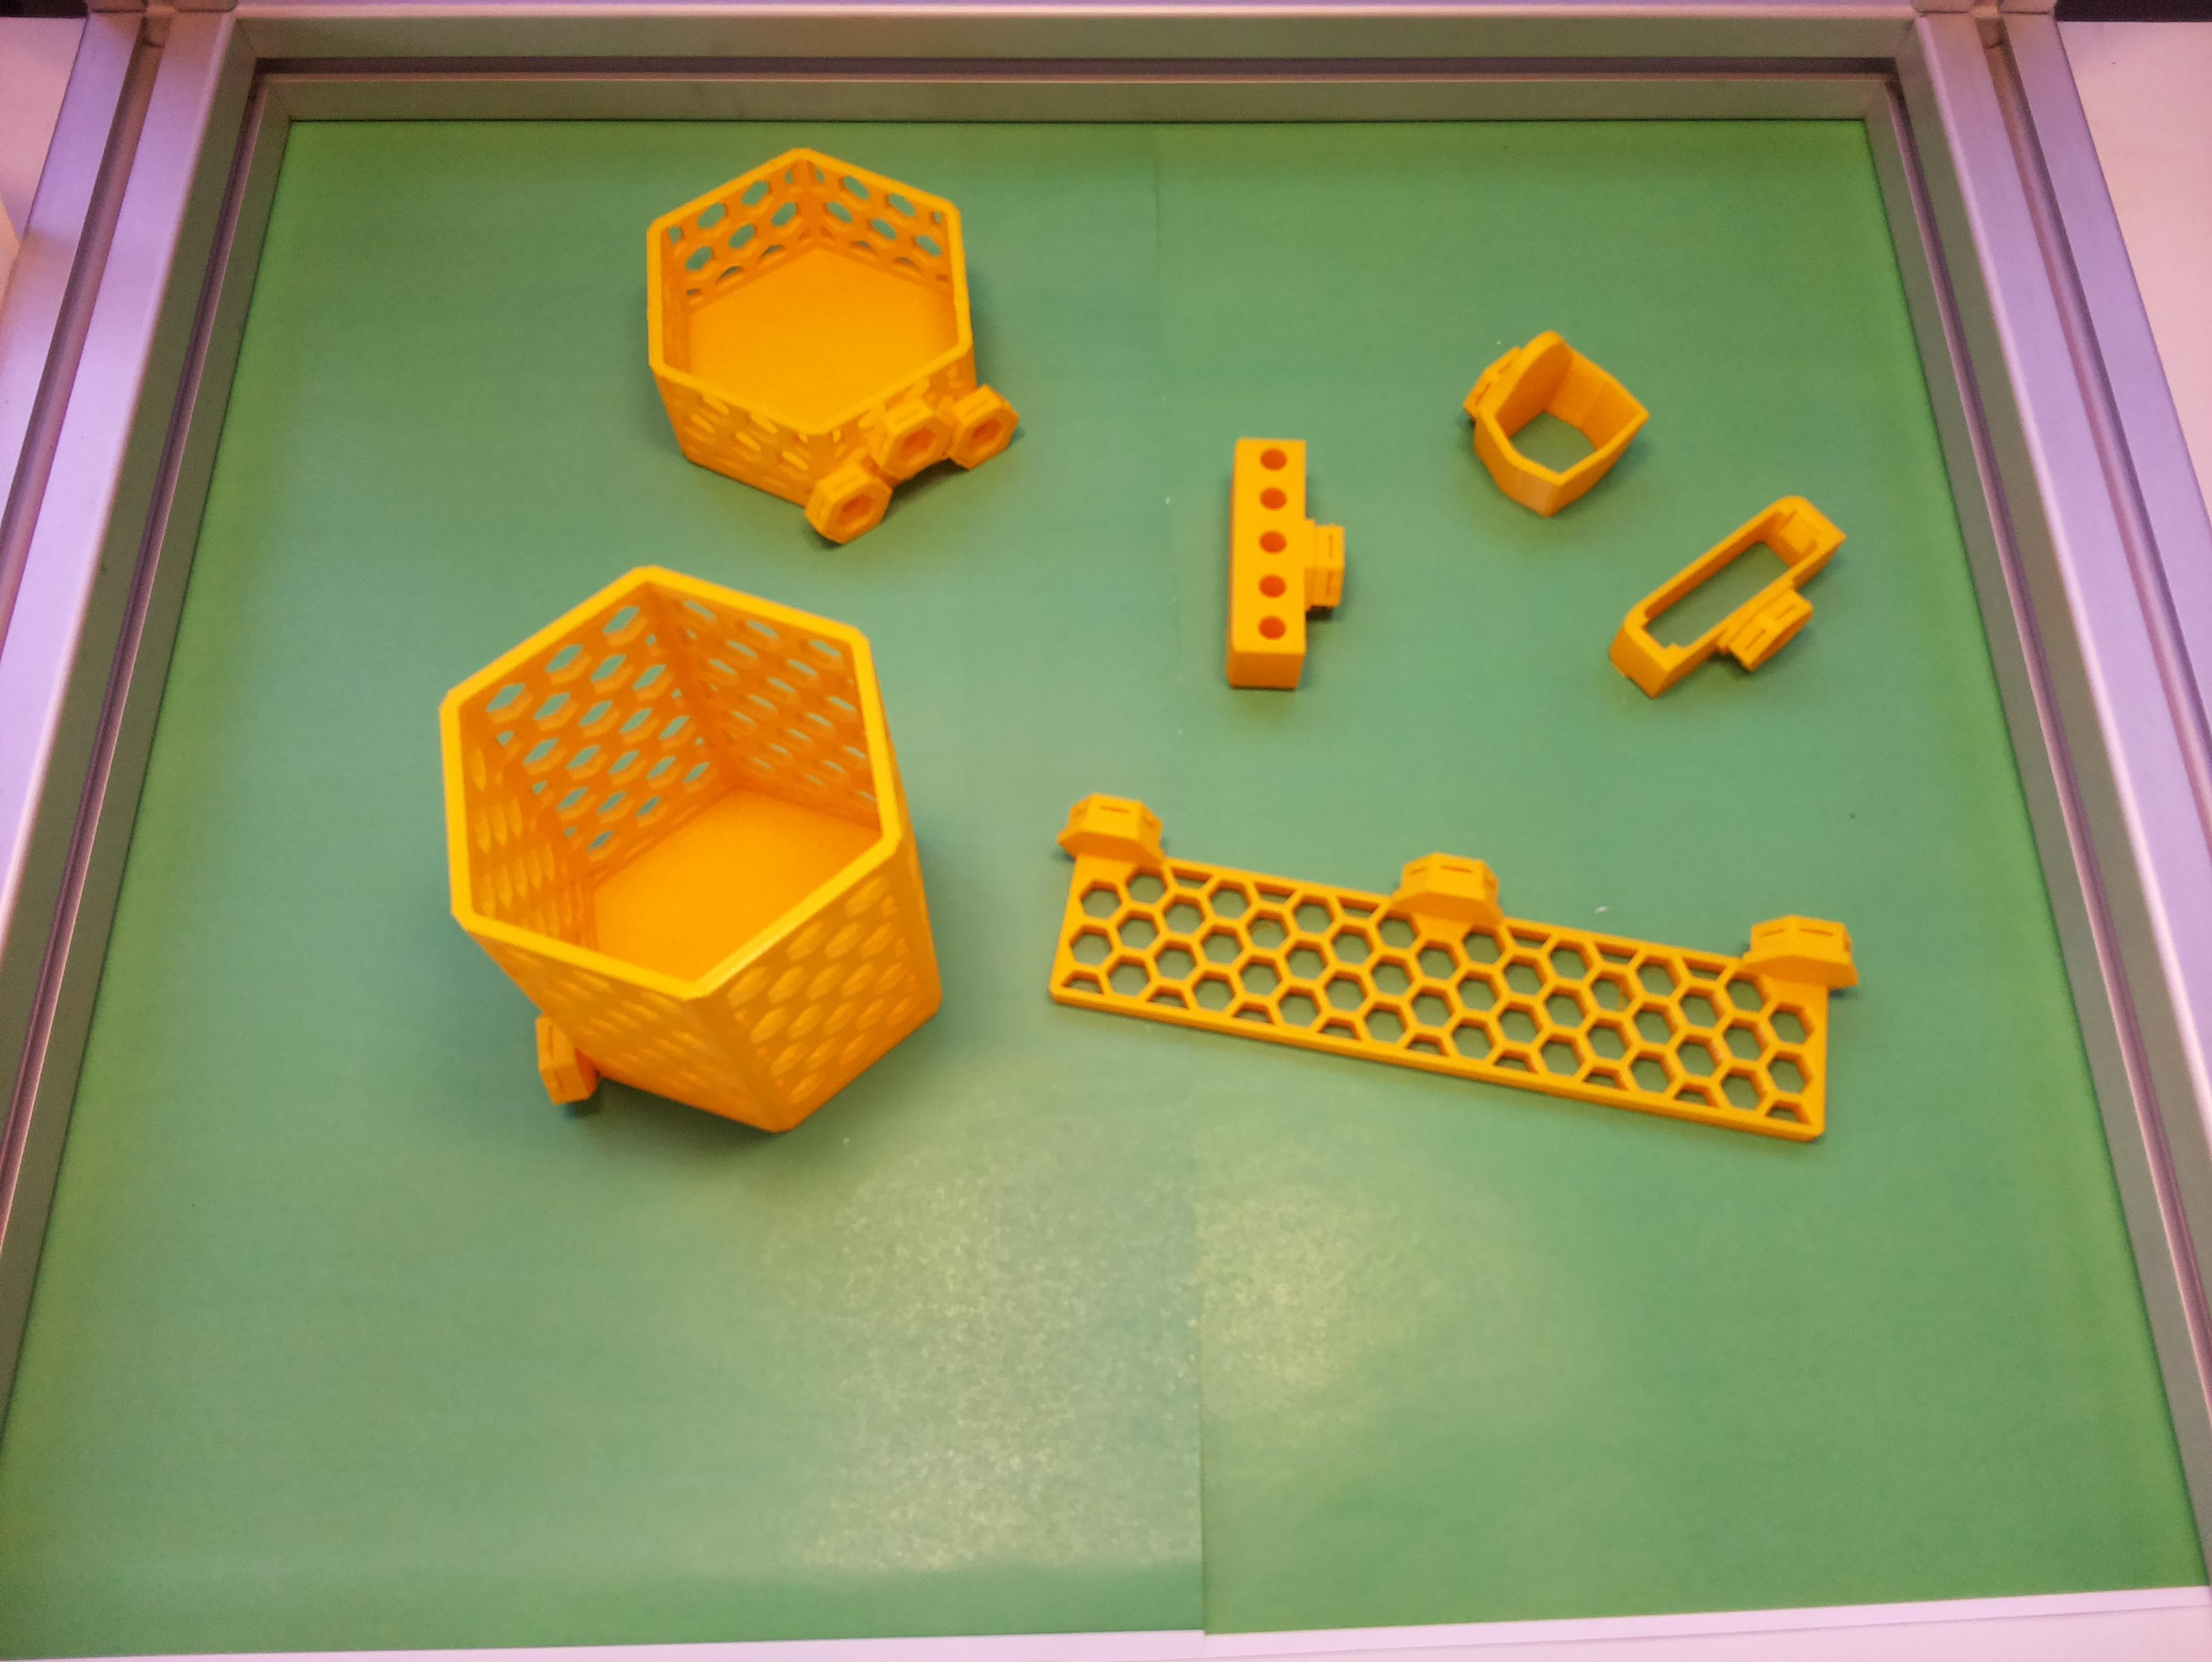bit_holder: (1224, 438, 1348, 691)
bottle_holder: (599, 103, 1051, 583)
cup_holder: (398, 527, 960, 1182)
cutter_holder: (1594, 475, 1875, 737)
scissor_holder: (1435, 311, 1657, 532)
tool_holder: (1028, 787, 1865, 1145)
